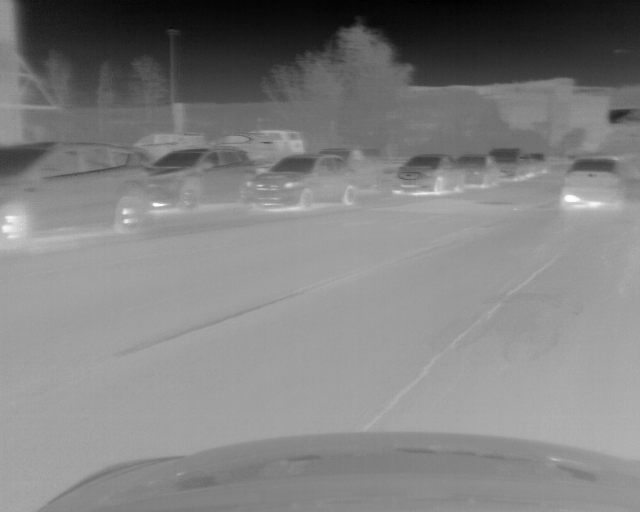car: (1, 141, 147, 249), (146, 146, 252, 209), (250, 151, 357, 209), (558, 154, 625, 210), (401, 154, 463, 194), (132, 131, 202, 155), (212, 132, 272, 157), (458, 153, 498, 187), (252, 129, 303, 155), (493, 146, 521, 178)
